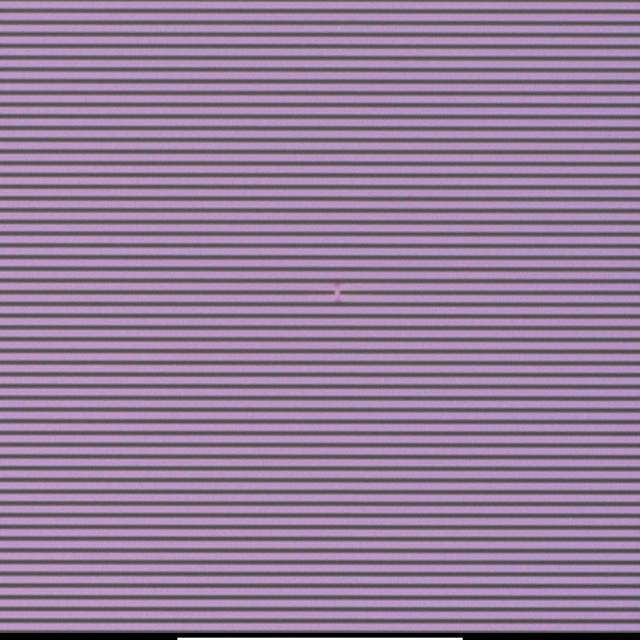03_intrusion: (323, 279, 354, 309)
